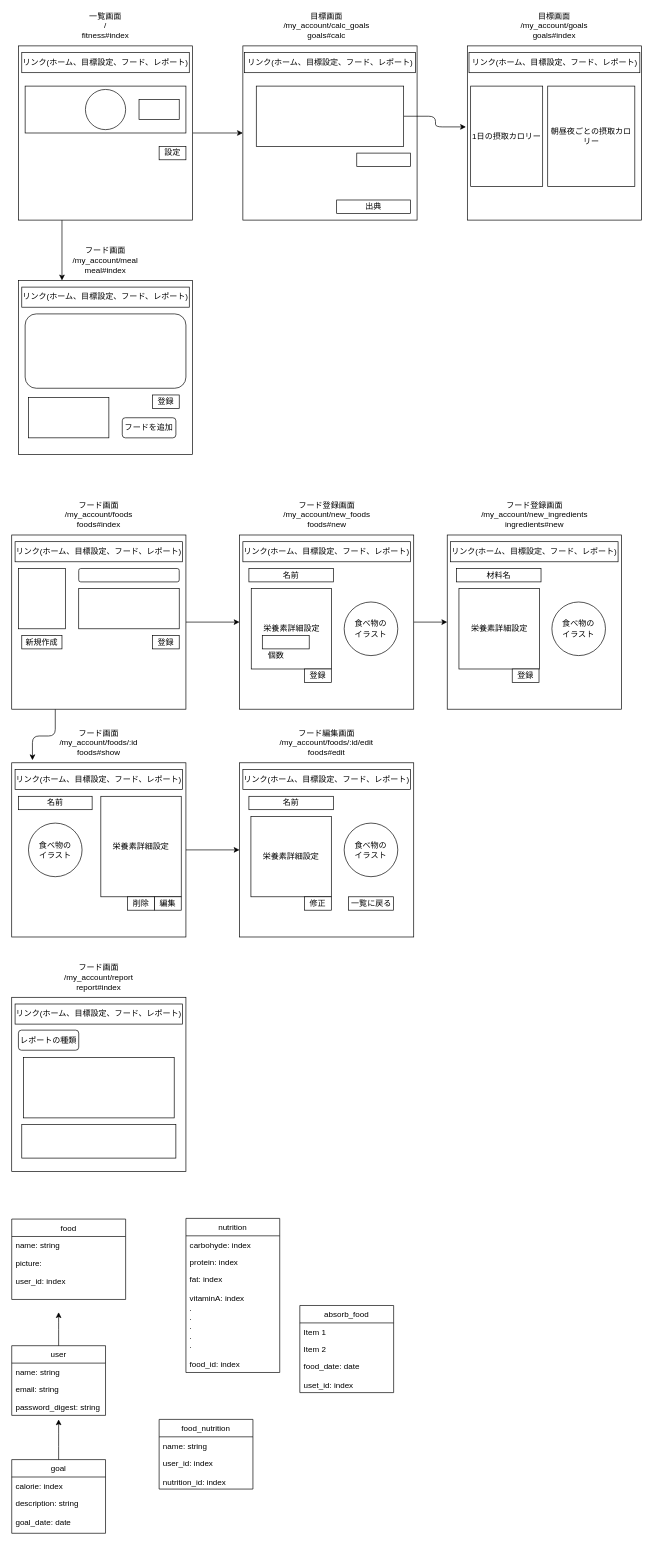
Some shapes in this 653 by 1547 pixel diagram are drawn without their labels. Each missing label, with the centre of its shape:
どのくらいの期間でどれくらい痩せるか。: [330,115]
グラフ: [98,1087]
コメント: [98,1141]
データベース検索: [128,575]
データベース検索一覧: [128,608]
マイフード一覧: [68,417]
マイフード一覧 （直近順）: [41,598]
摂取したものを選択: [105,350]
材料設定: [285,642]
残りの必要摂取カロリー: [105,109]
目標摂取カロリー: [158,109]
計算式の詳細: [383,159]
